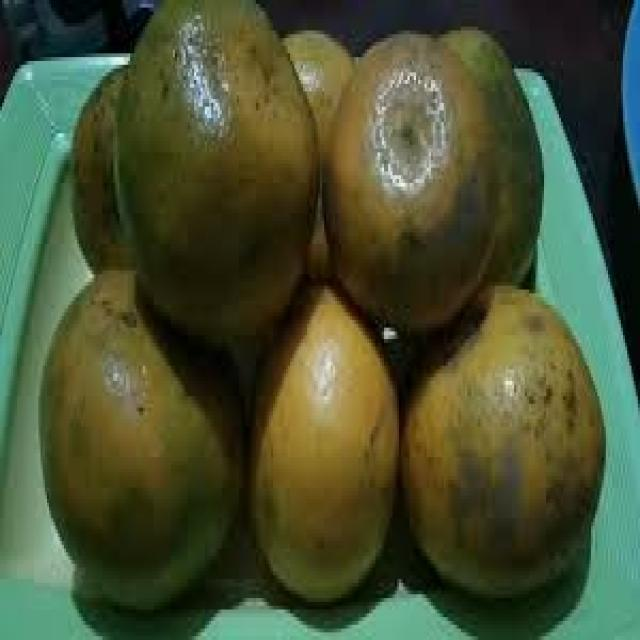jeruk: (35, 266, 254, 620), (104, 0, 340, 315), (390, 273, 610, 608), (325, 24, 506, 320)
